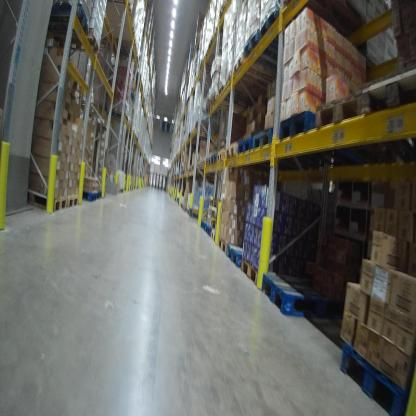pallet: (336, 336, 407, 413), (259, 267, 353, 325), (356, 54, 415, 125), (312, 81, 361, 130), (49, 1, 93, 39), (234, 54, 281, 89), (242, 30, 288, 65), (48, 25, 100, 55), (259, 5, 287, 51), (277, 107, 316, 140), (28, 184, 69, 211), (238, 253, 262, 289), (227, 72, 259, 96), (219, 83, 254, 103), (252, 125, 274, 152), (227, 245, 245, 268), (237, 135, 253, 157), (196, 127, 218, 140), (225, 141, 239, 161), (81, 188, 97, 202), (219, 238, 230, 257), (69, 193, 82, 209), (210, 151, 218, 169), (217, 149, 226, 163), (211, 230, 220, 242), (204, 156, 212, 168), (97, 189, 103, 202)
